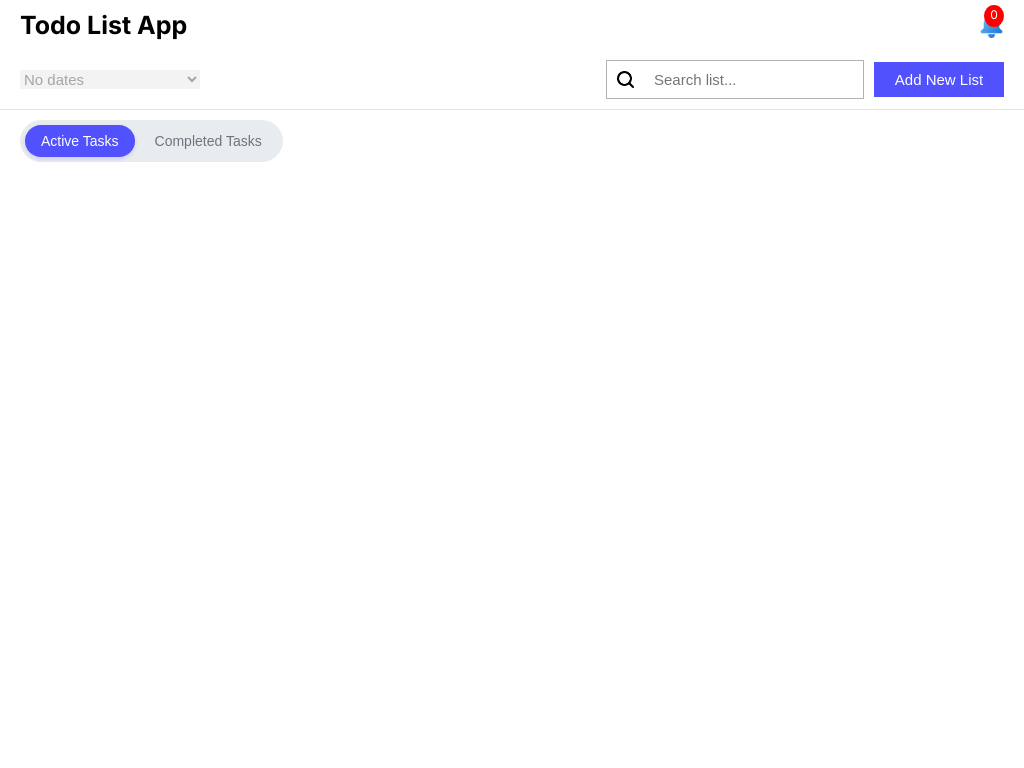
Test: Test suite: App component › saves tasks to localStorage
Click the button with test id "add-new-task-button" at (939, 80), box [874, 62, 1004, 97]
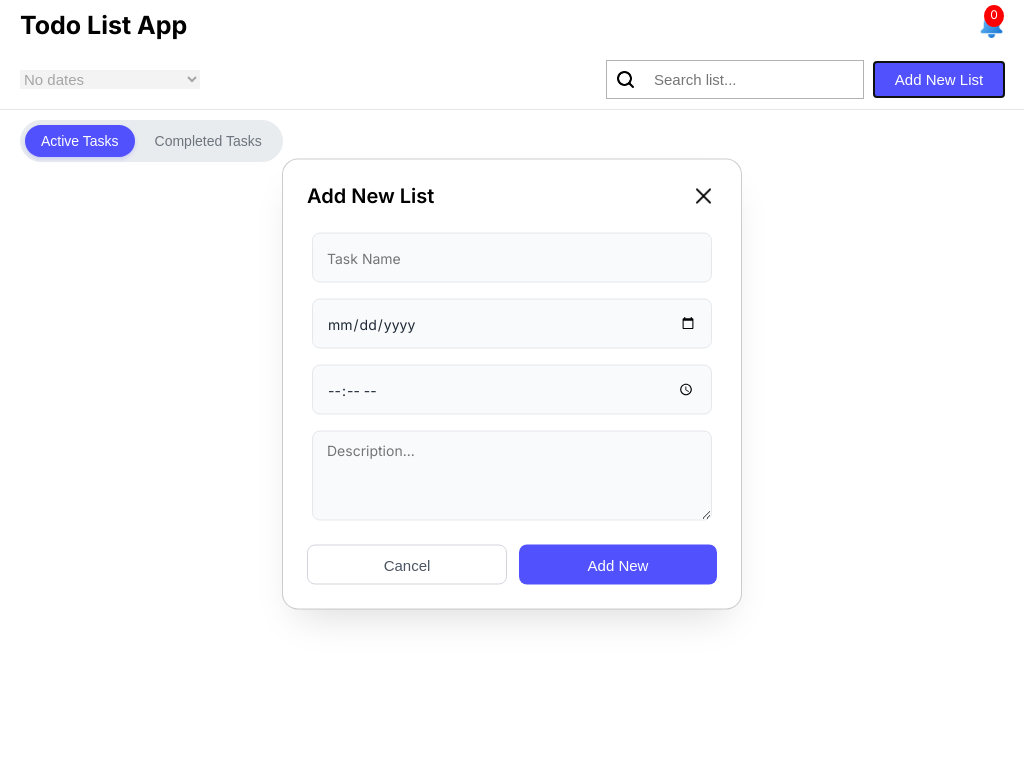
Type "Learn tailwind css" into the field with placeholder "Task Name" at (512, 258), box [312, 232, 712, 282]
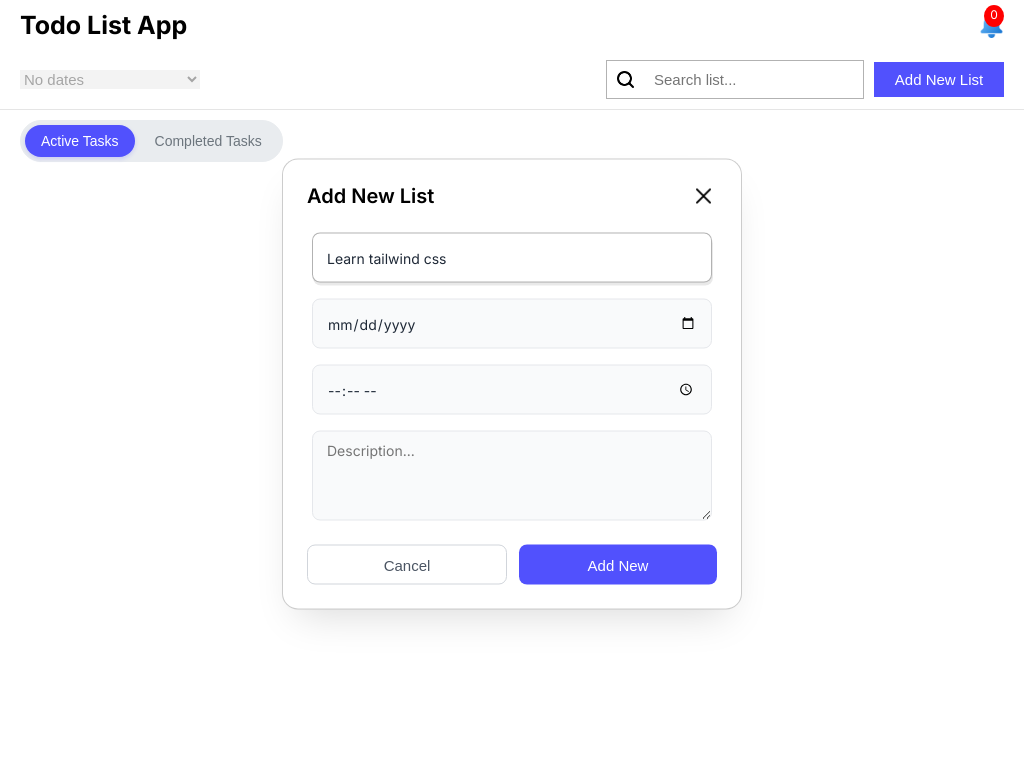
Type "2023-09-01" into the date field with placeholder "Task date" at (512, 324), box [312, 298, 712, 348]
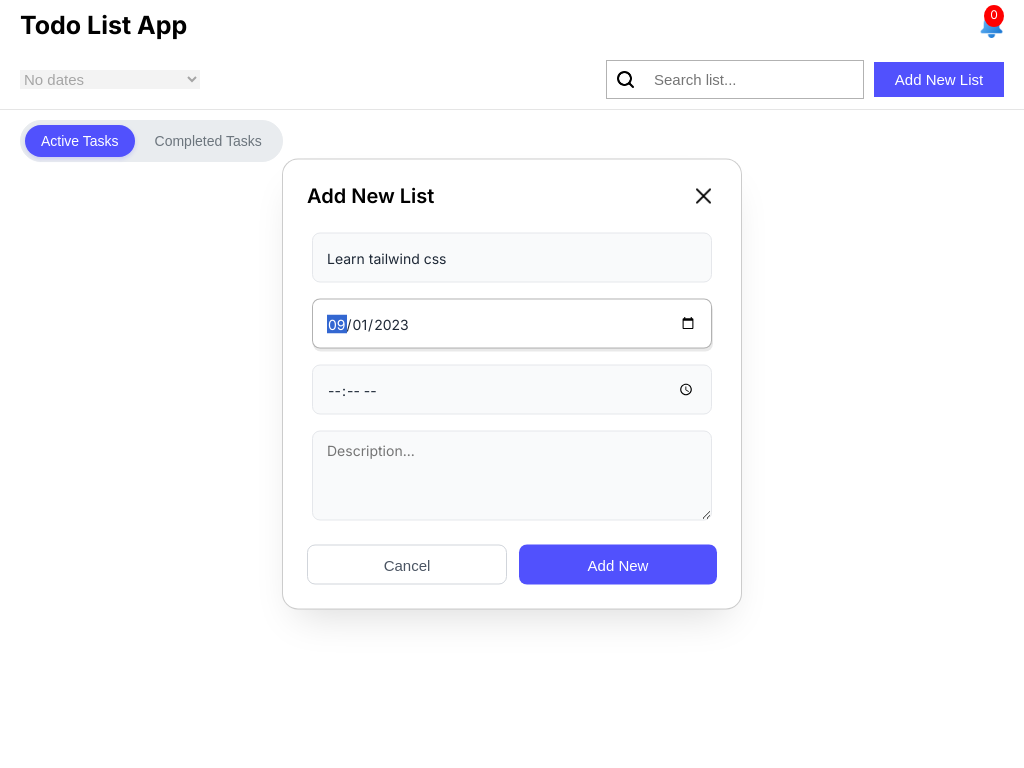
Type "10:00" into the time field with placeholder "Task start time" at (512, 390), box [312, 364, 712, 414]
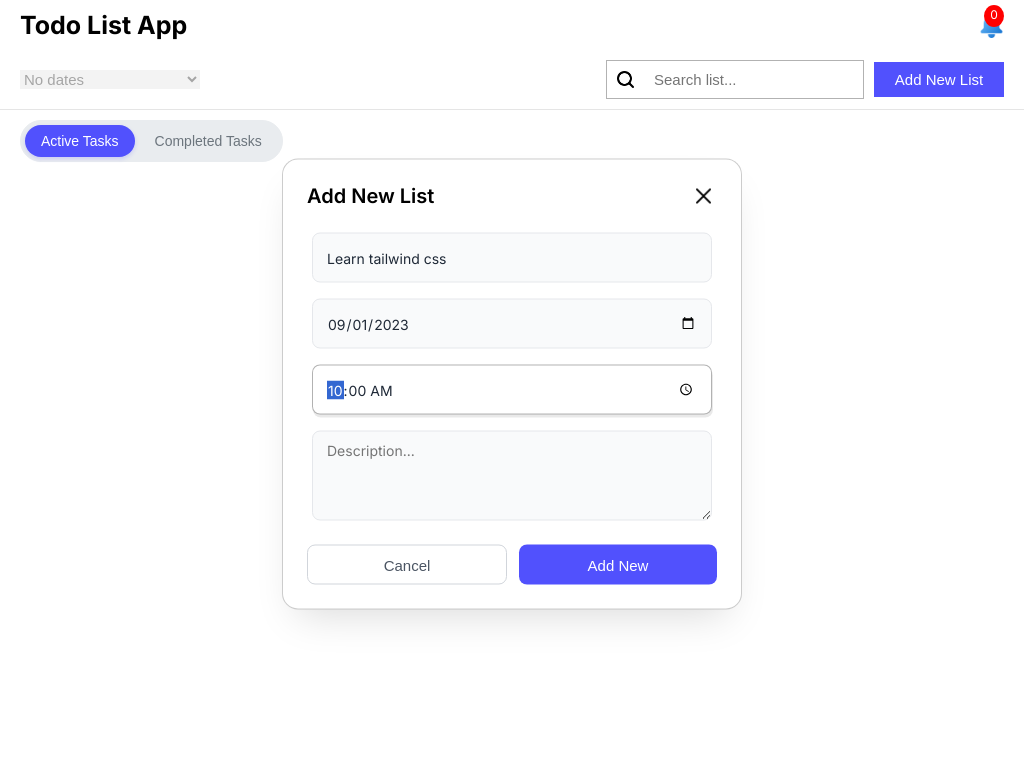
Type "Learn tailwind css for fast styling" into the text box with placeholder "Description..." at (512, 476), box [312, 430, 712, 520]
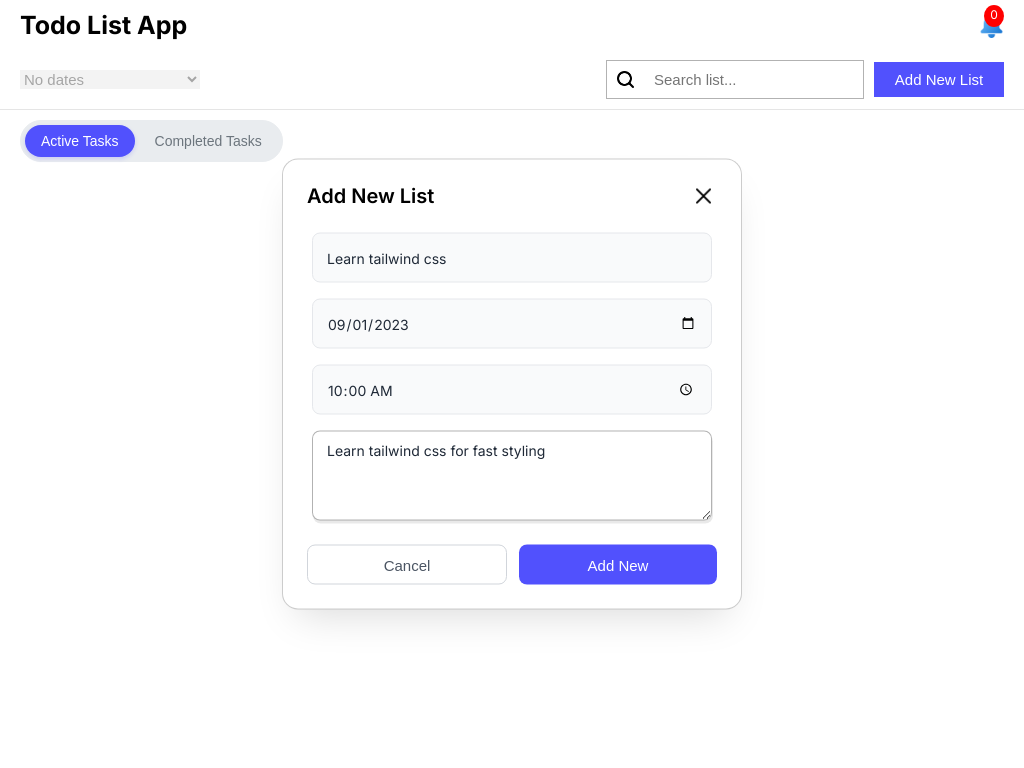
Click the button with test id "add-task-button" at (618, 564), box [519, 544, 717, 584]
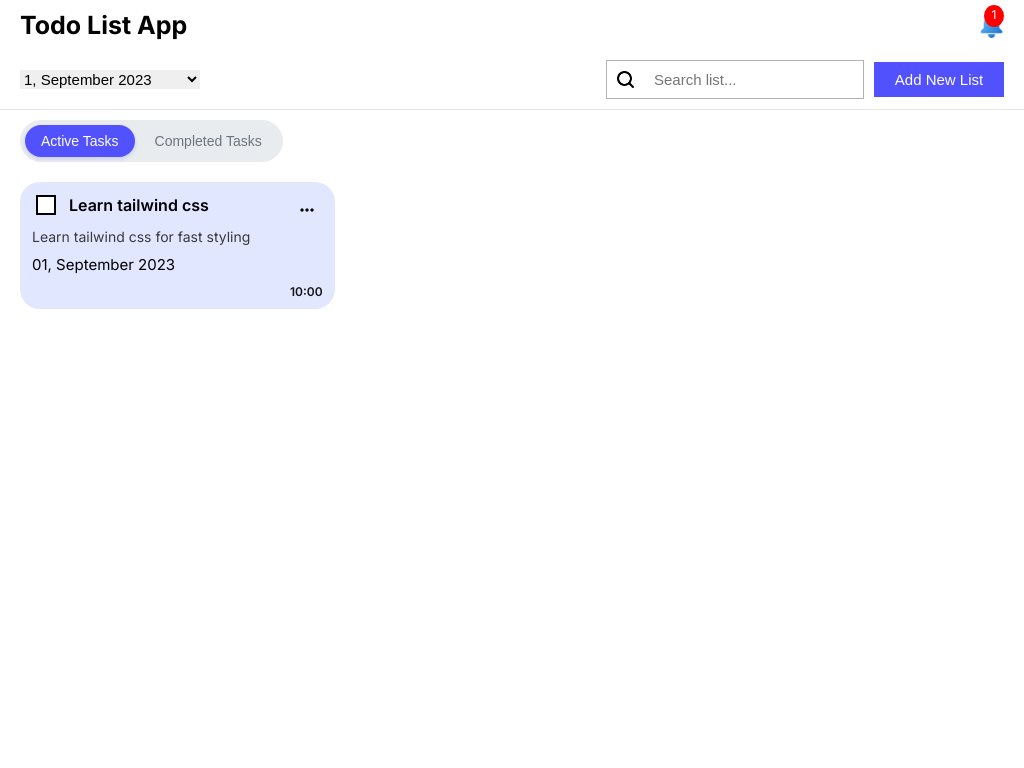
Expected: the text "Learn tailwind css" is shown, [69, 195, 209, 215]
Expected: the text "Learn tailwind css for fast styling" is shown, [32, 228, 250, 245]
